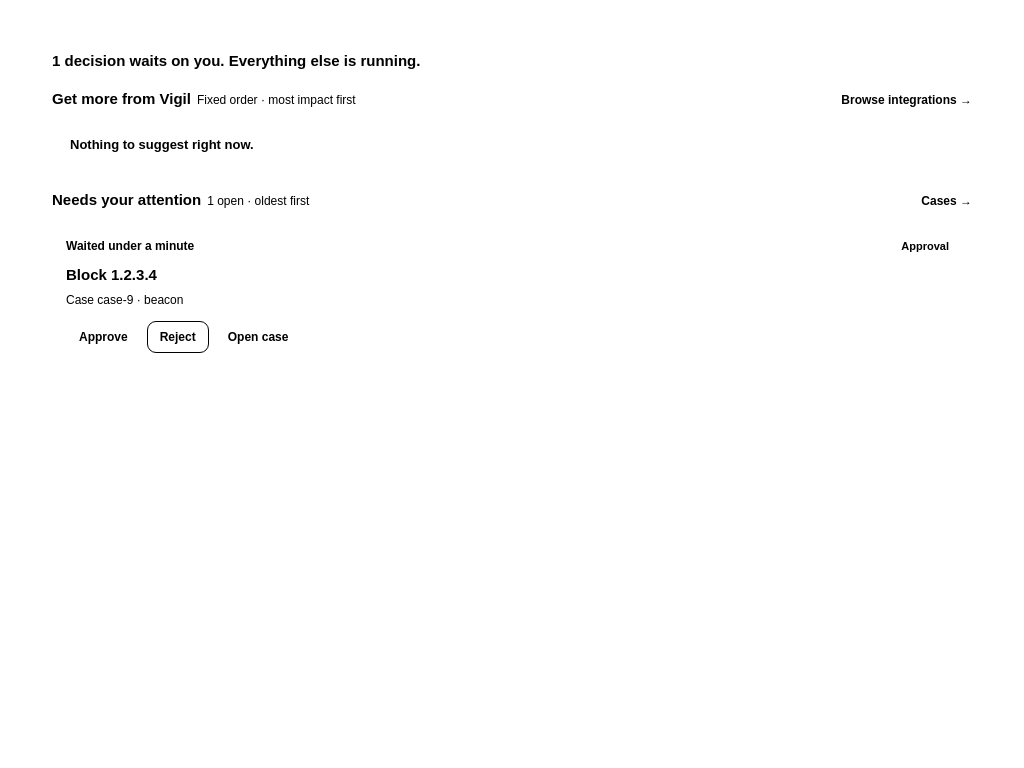
Scenario: Home › keeps the card hidden while the commit is in flight
This screenshot has width=1024, height=768.
Expected: the heading "Block 1.2.3.4" is shown, top-left (66, 266), bottom-right (157, 282)
Click the button "Approve".
click(103, 337)  # box top-left (66, 321), bottom-right (141, 353)
Wait 8000 ms
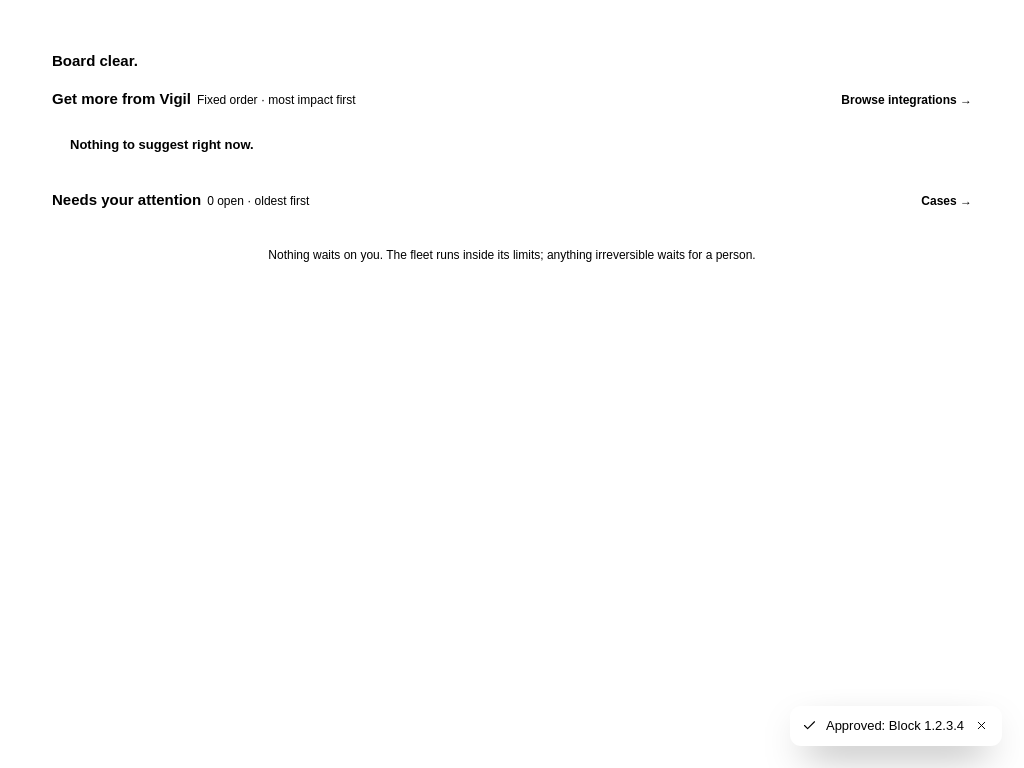
Expected: the text "Approved: Block 1.2.3.4" is shown, top-left (826, 717), bottom-right (964, 735)
